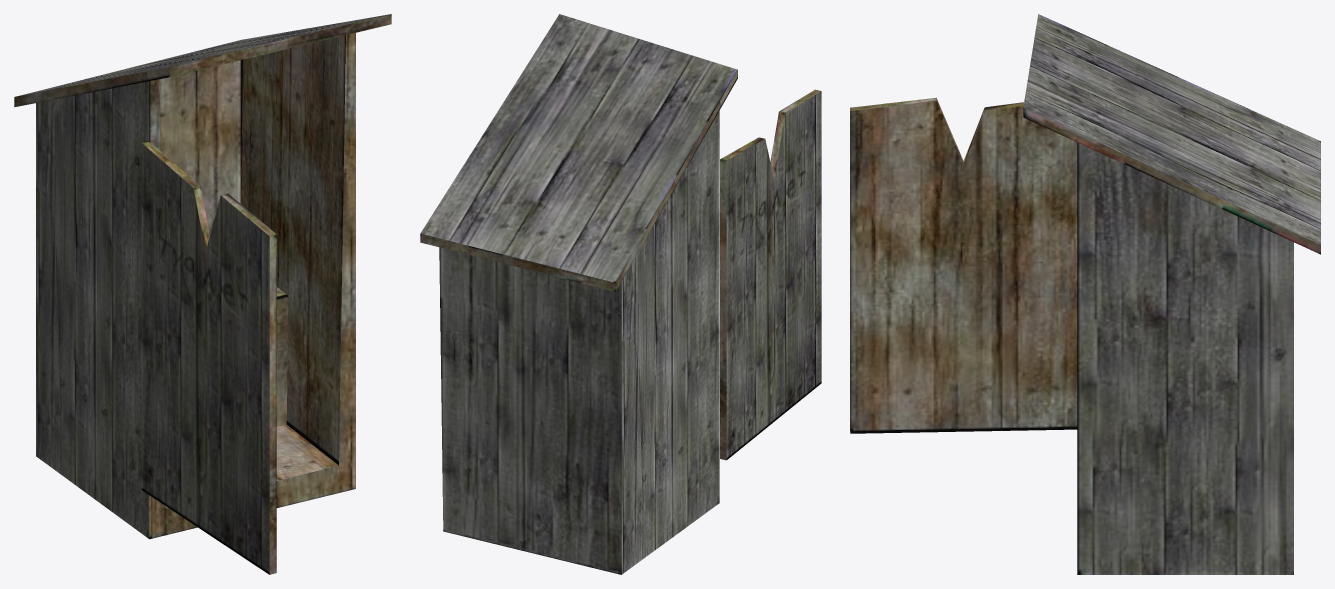
Rendered from kadibouda.obj.
The picture shows the model from 3 angles, left to right: view 1: azimuth 30°, elevation 25°; view 2: azimuth 150°, elevation 25°; view 3: azimuth 270°, elevation 25°; orthographic projection. The views are drawn at different scales.
Visible parts, largest first — view 1: kadibouda; view 2: kadibouda; view 3: kadibouda.
Boxes of the visible parts, x1,y1,x2,y2 form: kadibouda: [14, 14, 391, 574]; kadibouda: [420, 14, 821, 574]; kadibouda: [850, 14, 1320, 574].
Bounding box in the file's own units: 94.87 × 197 × 179.
1 material, 1 textured.
